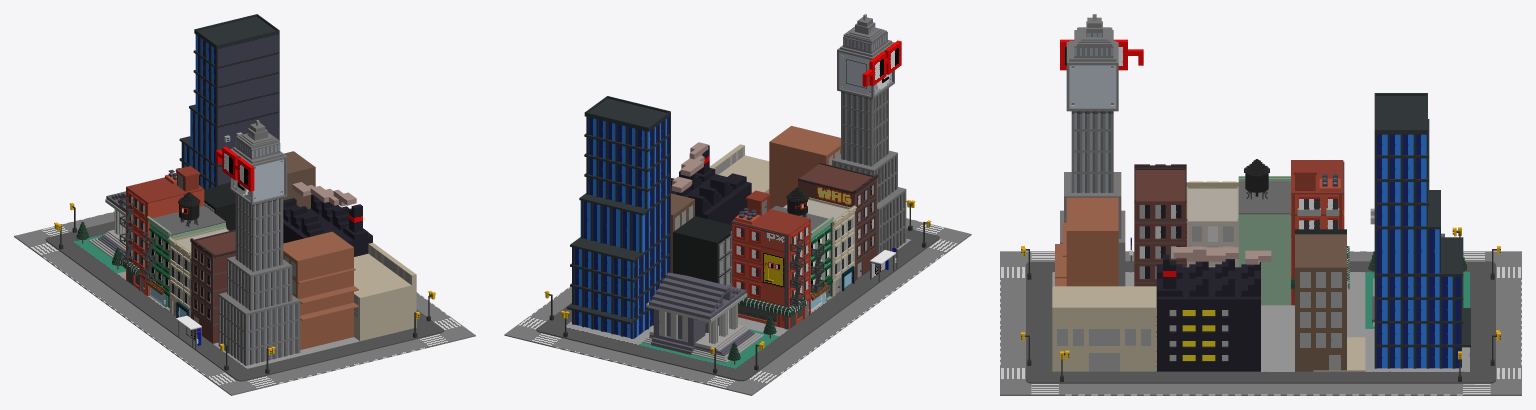
File: Block_TNS.glb
The picture shows the model from 3 angles, left to right: view 1: azimuth 30°, elevation 25°; view 2: azimuth 150°, elevation 25°; view 3: azimuth 270°, elevation 25°; orthographic projection. The views are drawn at different scales.
Parts seen in each view (by area): view 1: Block_TNS; view 2: Block_TNS; view 3: Block_TNS.
Part boxes in pixels (x1,y1,x2,y2): Block_TNS: (14,14,475,395); Block_TNS: (504,14,971,395); Block_TNS: (1000,14,1521,395).
Size of the model in its own units: 2.6 by 2.34 by 4.
1 material, 1 textured.
